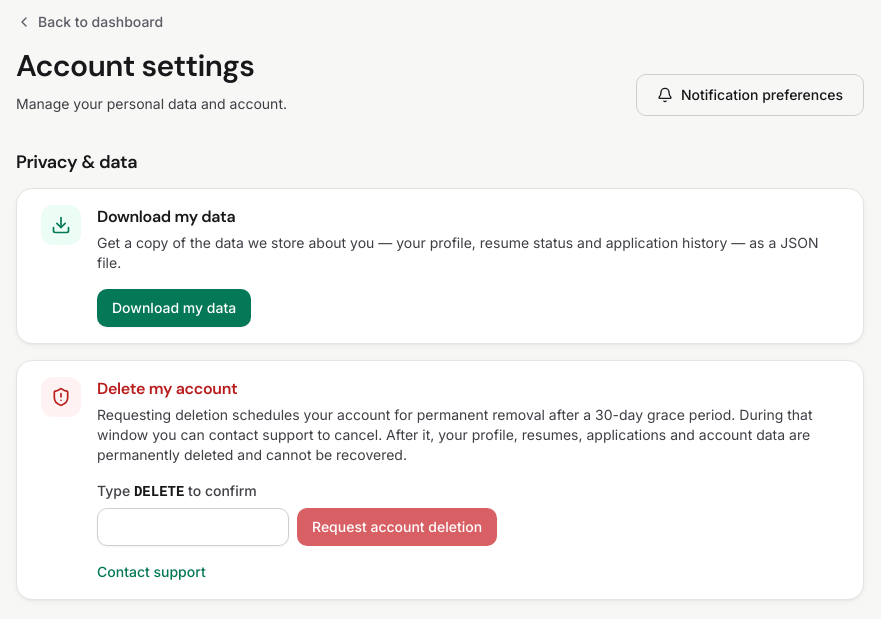
Scenario: CandidateSettingsPage › submits the deletion request and shows the requested-at confirmation
The image size is (881, 619).
Type "DELETE" into the field labelled "Type DELETE to confirm" at (193, 527), box x1=97 y1=508 x2=289 y2=546
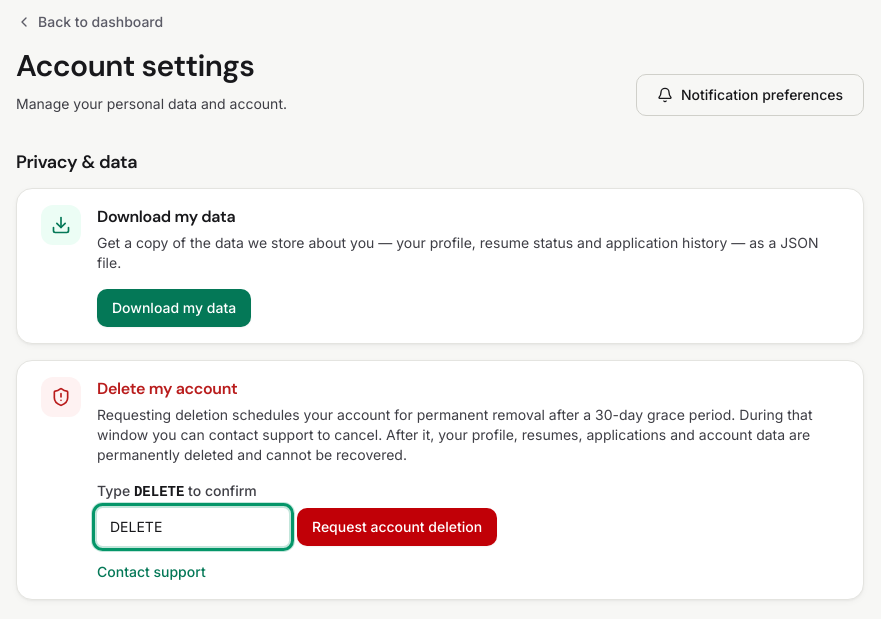
Click the button "Request account deletion" at (397, 527), box x1=297 y1=508 x2=497 y2=546
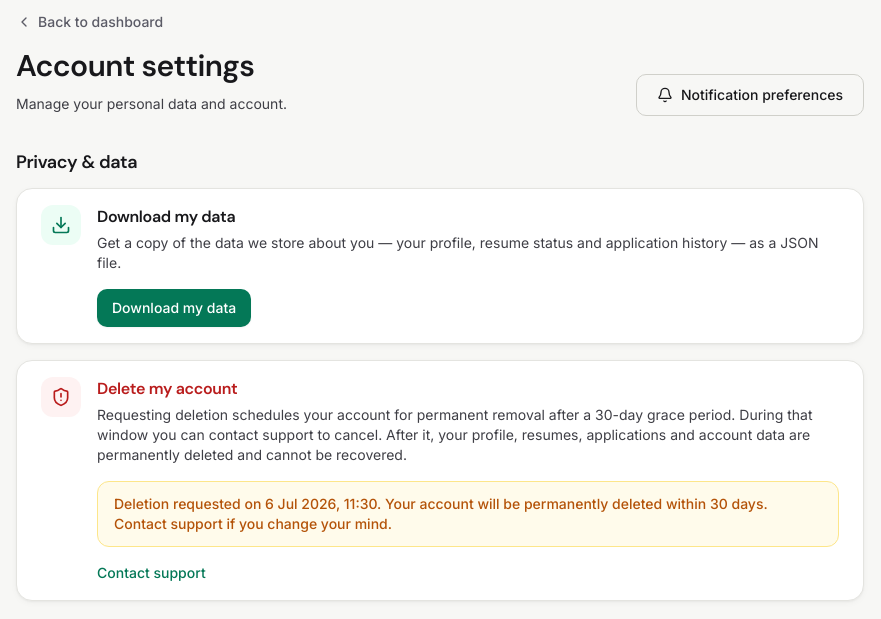
Expected: the text "permanently deleted within 30 days" is shown, x1=114 y1=495 x2=768 y2=532
